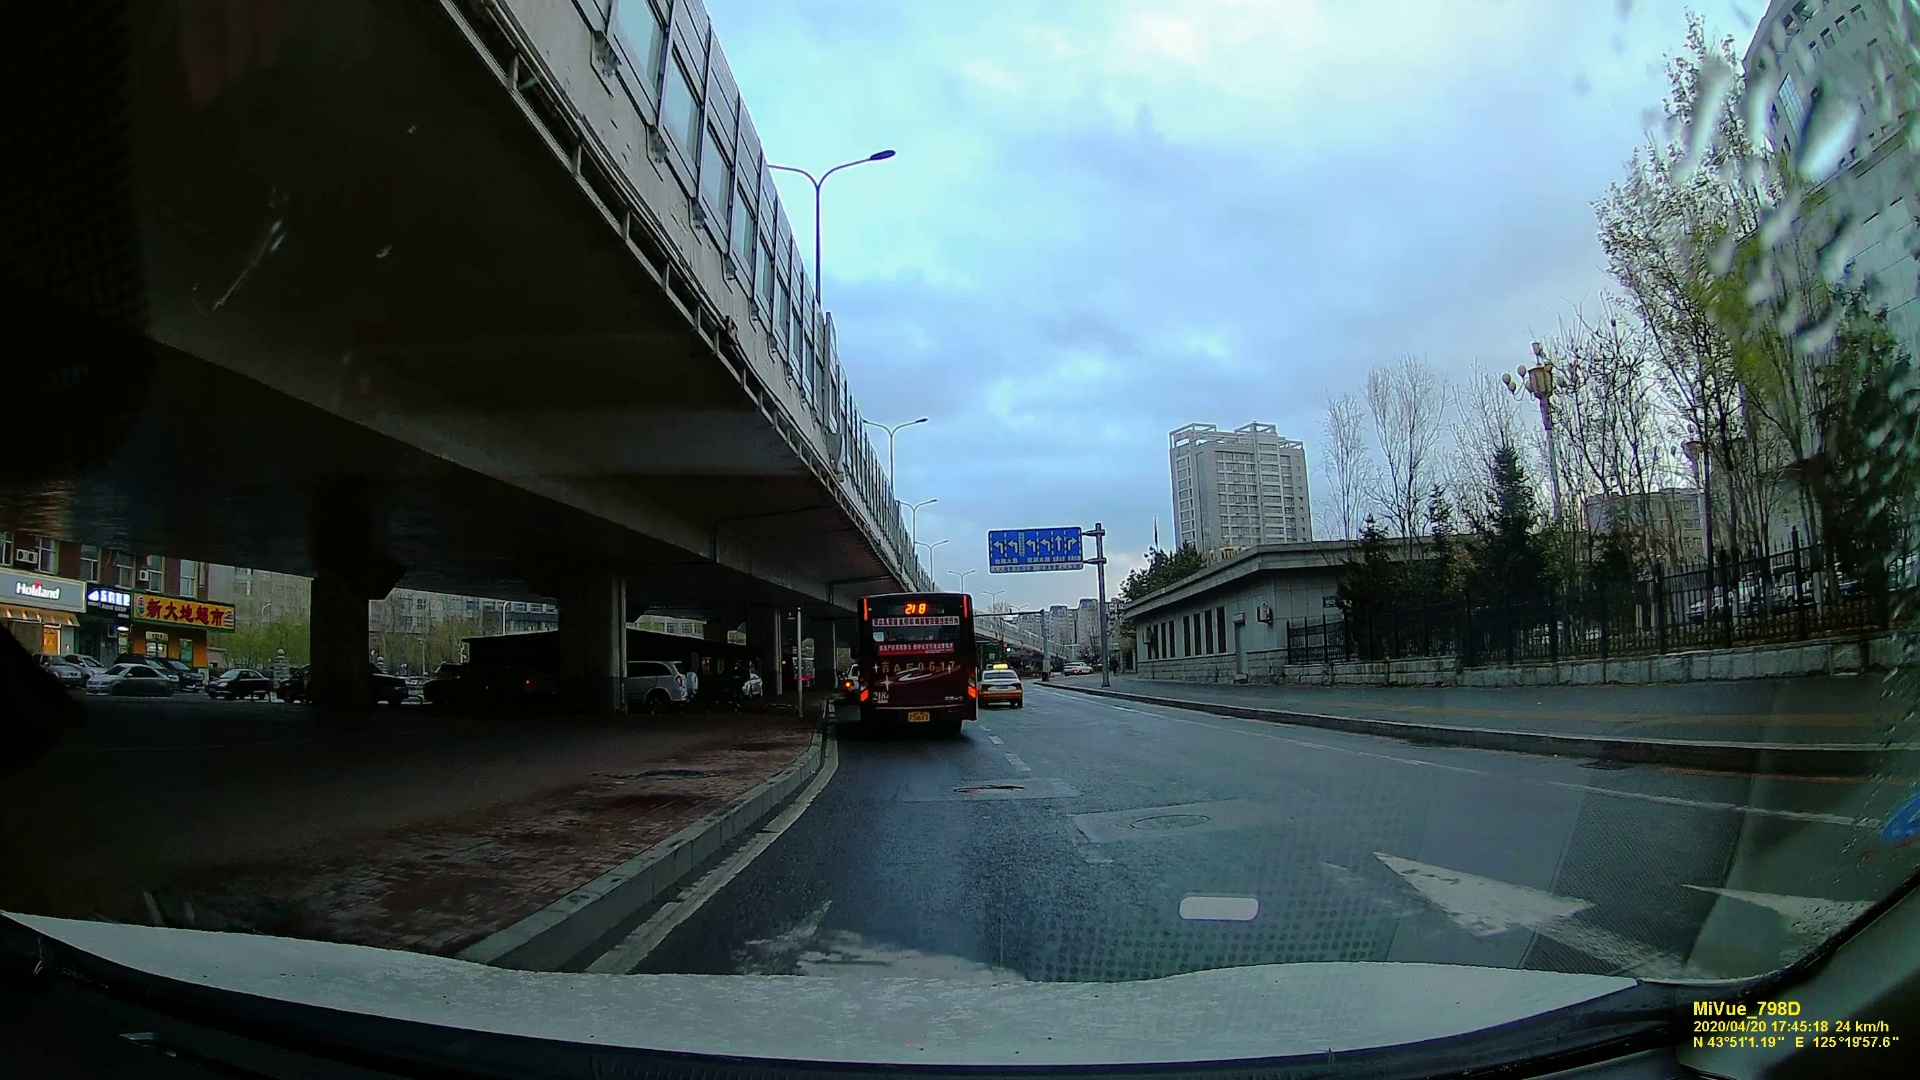bus: (858, 593, 975, 735)
traffic_sign: (988, 529, 1077, 568)
vehicle: (978, 669, 1021, 705)
